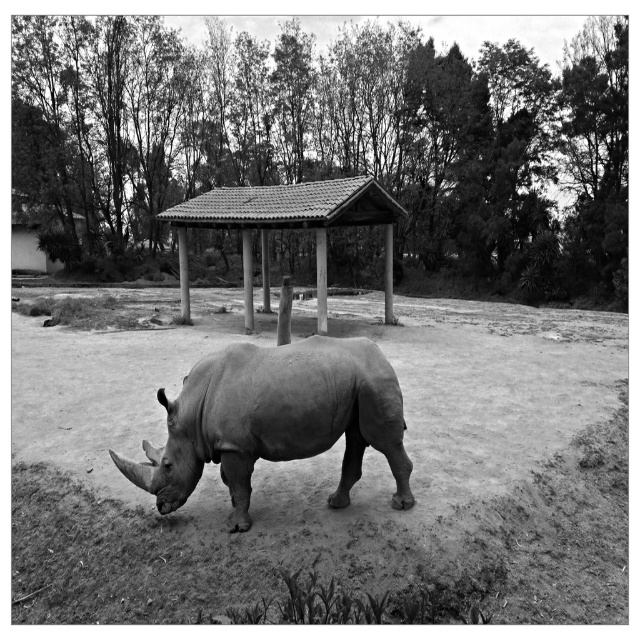Rhinoceros: (105, 328, 416, 538)
